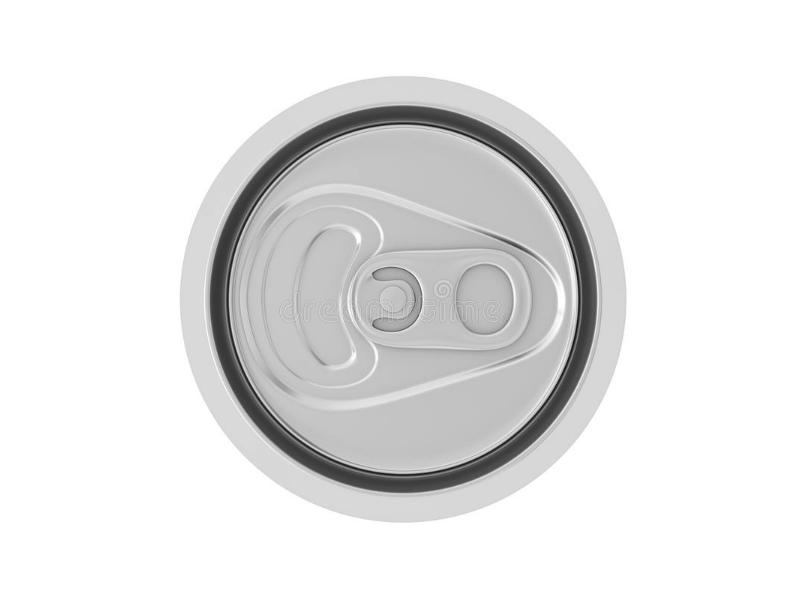can: (173, 66, 630, 530)
